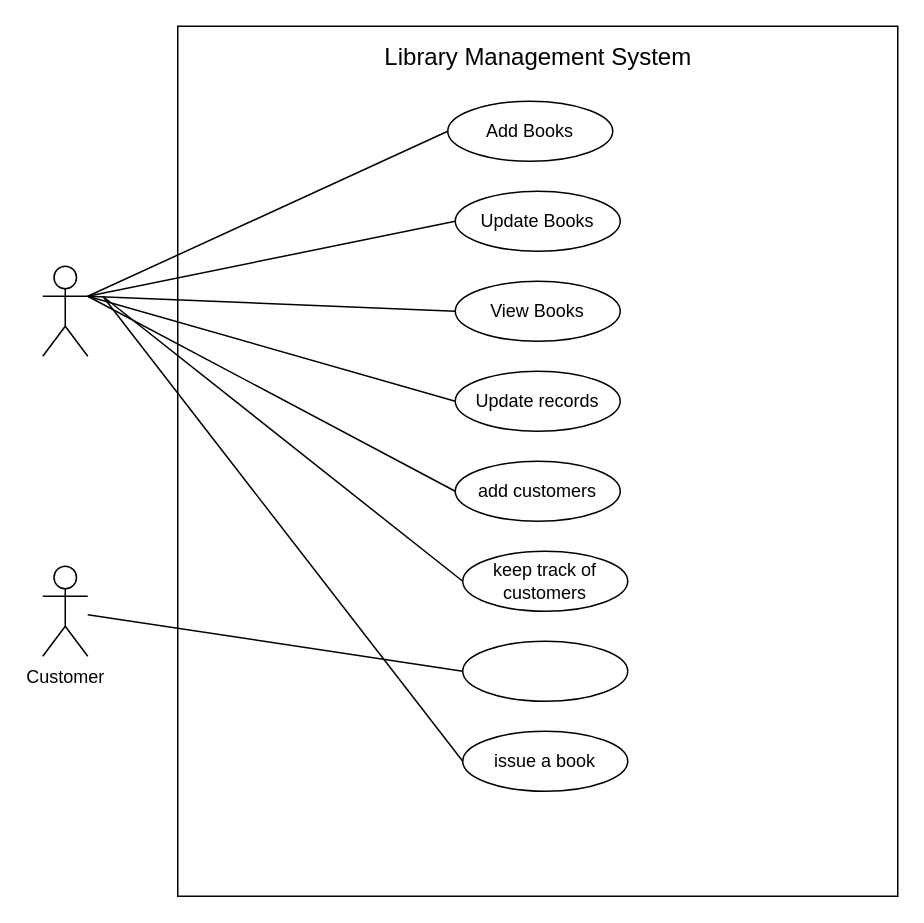
Image size: 924x923. Some labels were removed from this diagram. Each missing label, with the centre of its shape:
"Librarian" belongs at point 64,310.
"request a book" belongs at point 544,670.
